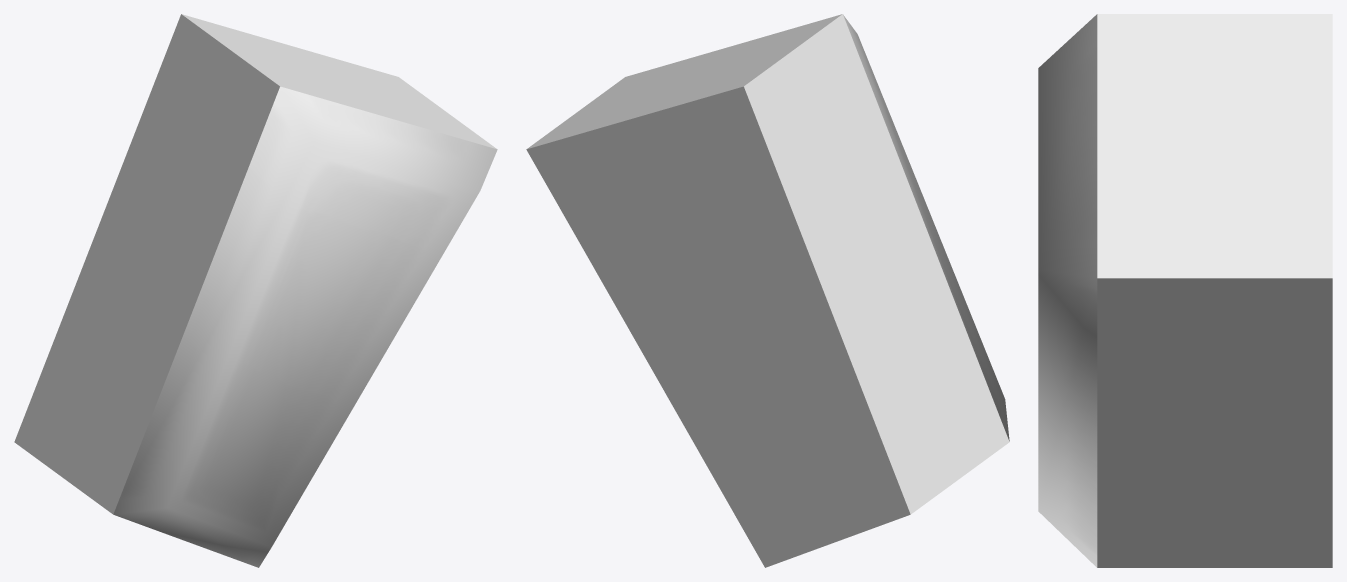
The model's file is LettersStylized01_S2.FBX.
3 views of the same model, side by side, from view 1: azimuth 30°, elevation 25°; view 2: azimuth 150°, elevation 25°; view 3: azimuth 270°, elevation 25° (orthographic). The views are drawn at different scales.
Visible parts, largest first — view 1: LettersStylized01_S2; view 2: LettersStylized01_S2; view 3: LettersStylized01_S2.
Boxes of the visible parts, x1,y1,x2,y2 form: LettersStylized01_S2: (14, 14, 497, 567); LettersStylized01_S2: (526, 14, 1009, 567); LettersStylized01_S2: (1038, 14, 1332, 567).
Size of what is drawn, in the model's own units: 0.1524 by 0.1805 by 0.085.
